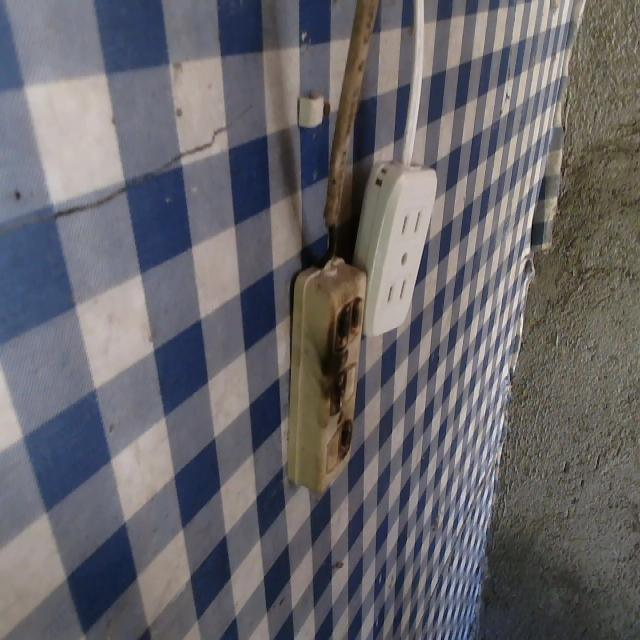-: (327, 297, 369, 353), (323, 363, 349, 417), (336, 411, 360, 461)
